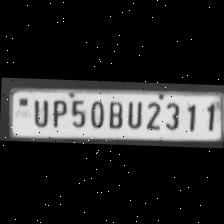0: (85, 95, 105, 128)
1: (200, 99, 218, 132), (182, 99, 200, 131)
2: (141, 97, 161, 130)
3: (160, 97, 180, 130)
5: (67, 96, 87, 128)
B: (104, 96, 124, 128)
P: (47, 95, 67, 127)
U: (28, 94, 50, 127), (123, 96, 143, 128)
